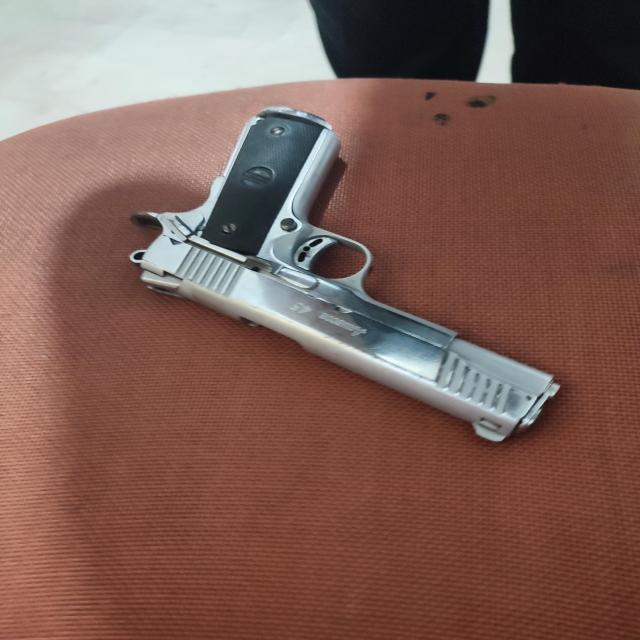pistol: (129, 102, 558, 440)
